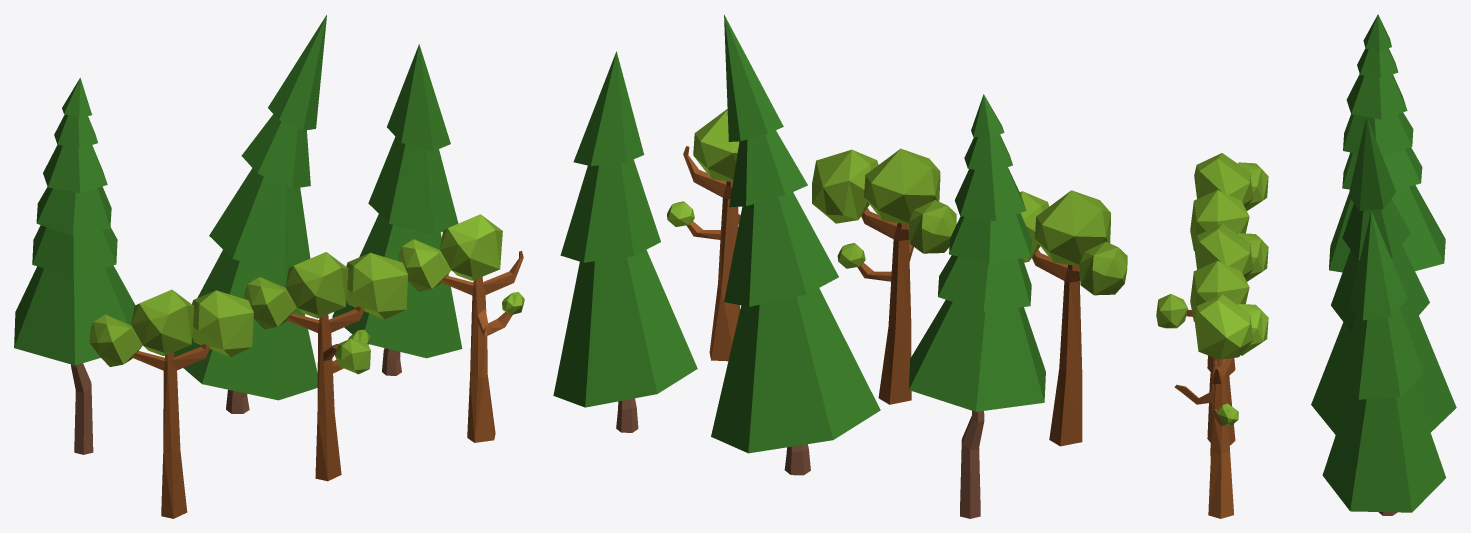
Rendered from trees.glb.
3 renders of one model, left to right at view 1: azimuth 30°, elevation 25°; view 2: azimuth 150°, elevation 25°; view 3: azimuth 270°, elevation 25°, orthographic. The views are drawn at different scales.
Parts seen in each view (by area): view 1: Pine_Tree_02, Pine_Tree_01, Pine_Tree_03, Tree_02, Tree_01, Tree_03; view 2: Pine_Tree_02, Pine_Tree_03, Pine_Tree_01, Tree_02, Tree_01, Tree_03; view 3: Pine_Tree_03, Pine_Tree_02, Pine_Tree_01, Tree_03, Tree_02, Tree_01.
Part boxes in pixels (bbox=[...]): Pine_Tree_02: bbox=[174, 15, 326, 413]; Pine_Tree_01: bbox=[14, 77, 135, 454]; Pine_Tree_03: bbox=[332, 44, 462, 375]; Tree_02: bbox=[244, 252, 407, 481]; Tree_01: bbox=[89, 289, 253, 518]; Tree_03: bbox=[398, 214, 524, 442]; Pine_Tree_02: bbox=[711, 14, 880, 475]; Pine_Tree_03: bbox=[553, 51, 697, 432]; Pine_Tree_01: bbox=[908, 94, 1045, 518]; Tree_02: bbox=[812, 148, 956, 404]; Tree_01: bbox=[1020, 190, 1127, 446]; Tree_03: bbox=[667, 109, 740, 361]; Pine_Tree_03: bbox=[1322, 211, 1446, 515]; Pine_Tree_02: bbox=[1311, 116, 1456, 434]; Pine_Tree_01: bbox=[1329, 14, 1445, 272]; Tree_03: bbox=[1174, 294, 1268, 518]; Tree_02: bbox=[1156, 223, 1268, 445]; Tree_01: bbox=[1190, 153, 1268, 375].
Size of the model in its own units: 6.68 by 5.73 by 4.29.
2 materials, 2 textured.
